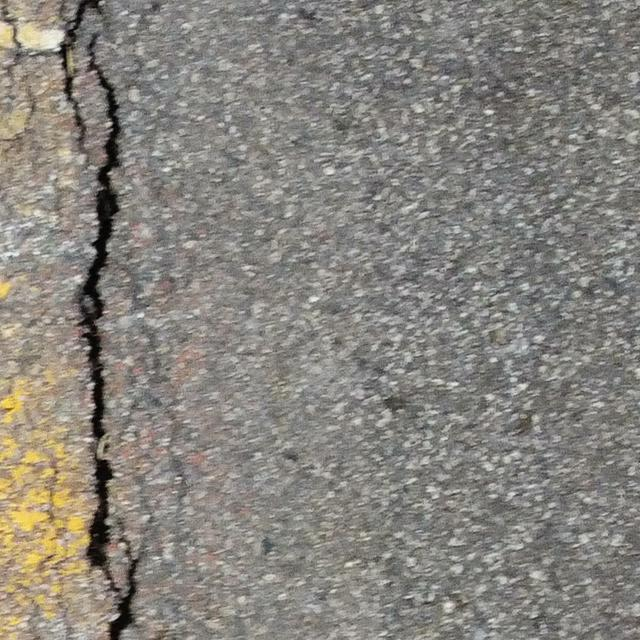LongitudinalCrack: (486, 1, 580, 640), (458, 533, 477, 640), (1, 1, 26, 78)
